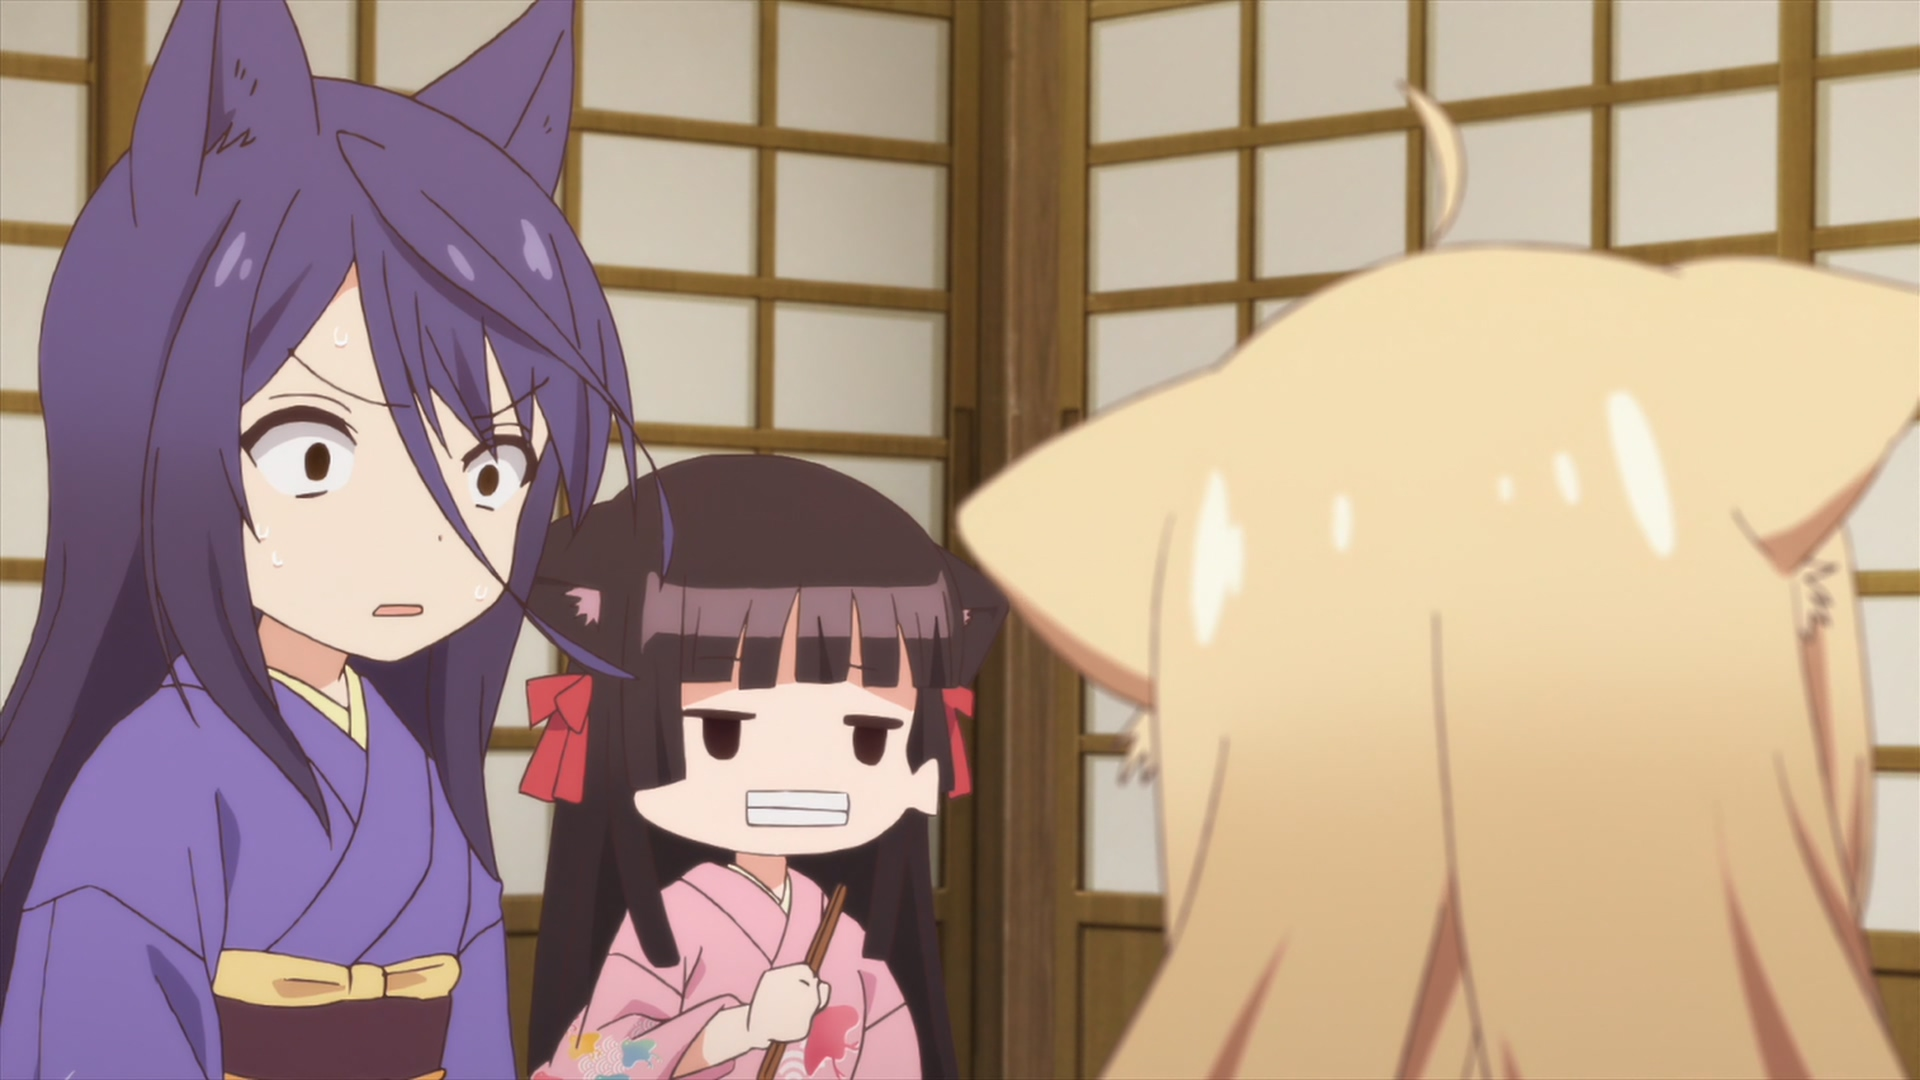柚: (953, 84, 1920, 1080)
樱: (524, 452, 1011, 1080)
皋: (1, 1, 673, 1080)
